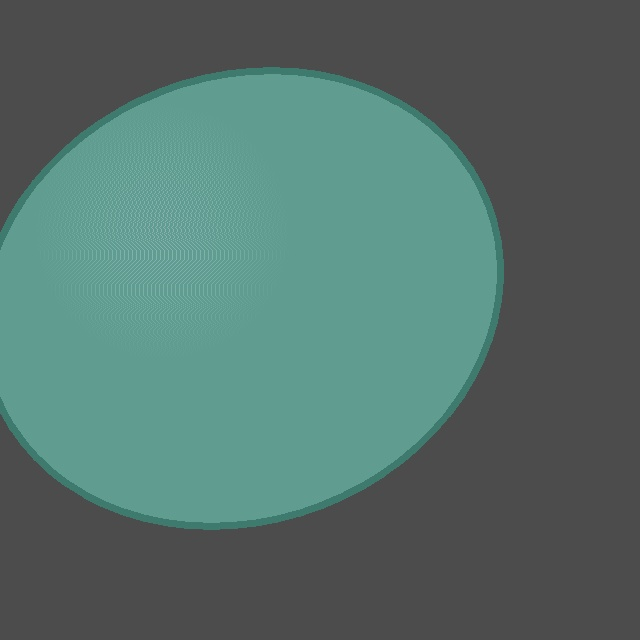lens: (0, 71, 500, 525)
